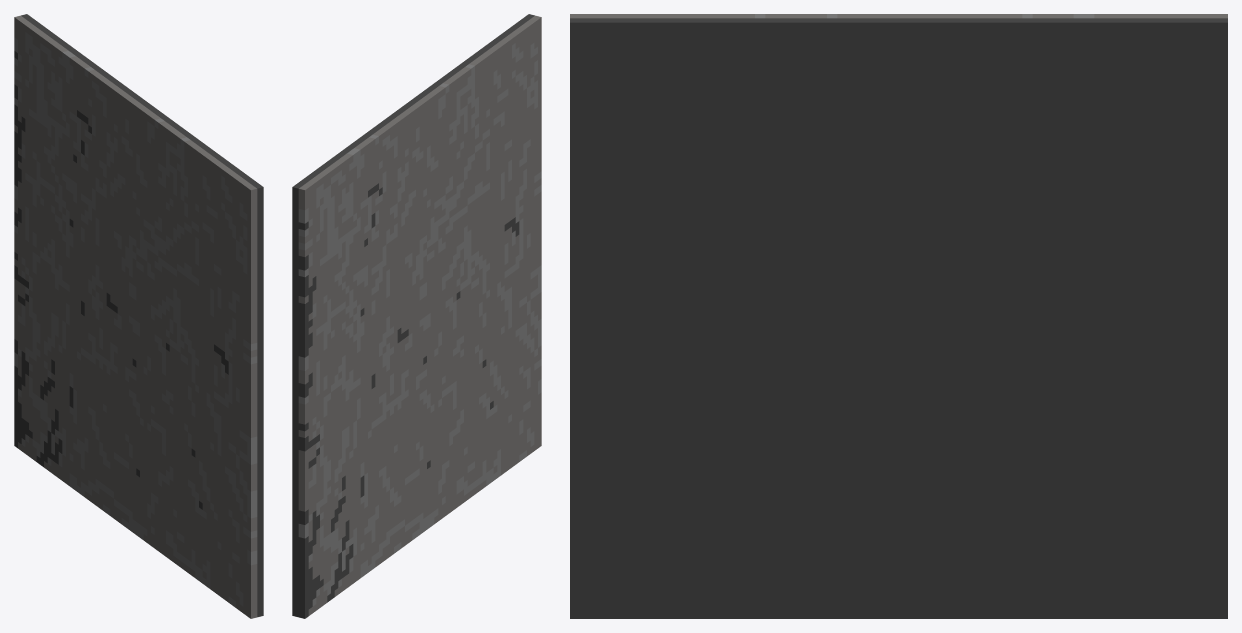
File: MapFinalV1-5.obj
The picture shows the model from 3 angles, left to right: view 1: azimuth 30°, elevation 25°; view 2: azimuth 150°, elevation 25°; view 3: azimuth 270°, elevation 25°; orthographic projection. The views are drawn at different scales.
Size of the model in its own units: 0.2 by 6.4 by 6.4.
1 material, 1 textured.
